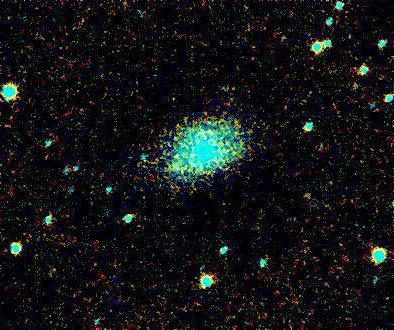star: (294, 179, 324, 209)
